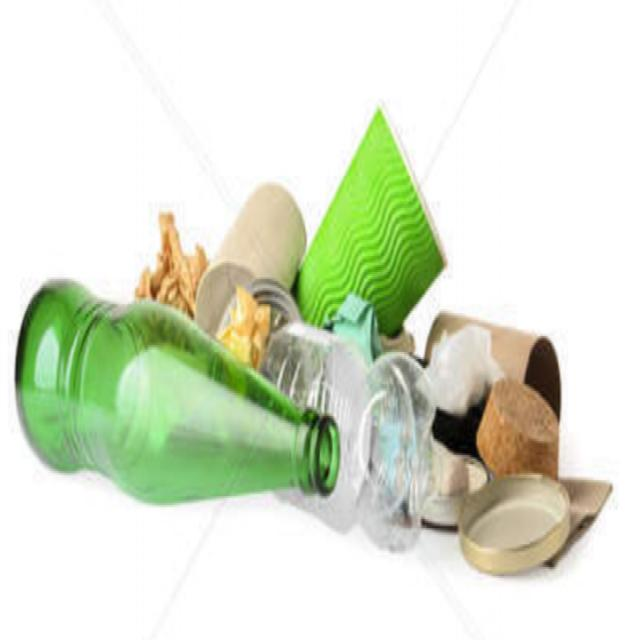metal: (466, 482, 574, 564)
paper: (314, 138, 444, 335), (210, 198, 301, 295), (128, 196, 203, 310), (220, 306, 292, 381)
plastic: (343, 351, 439, 551)
